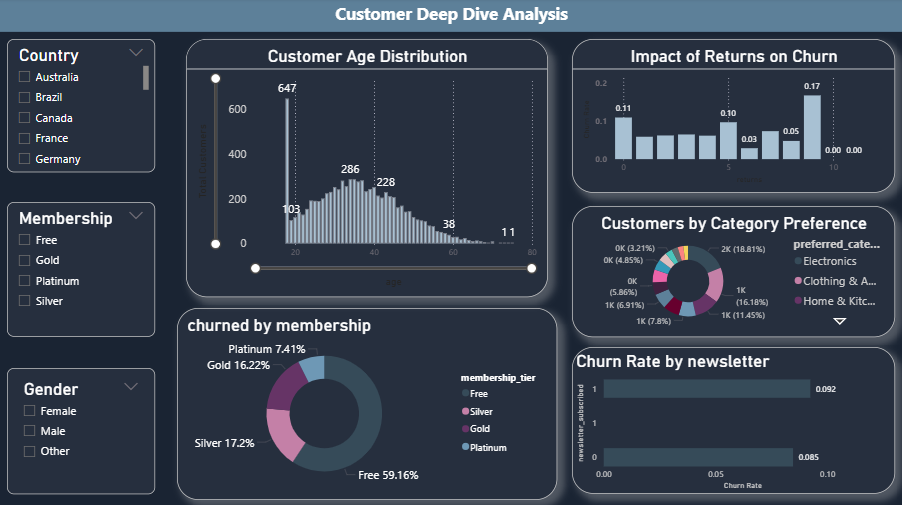

Layout of this report page (visuals, bound fields, positions):
{"tool":"powerbi","page":{"name":"Page 2","canvas":[1280,720],"ordinal":1},"visuals":[{"type":"textbox","box":[0,0,1279.8,48.2],"z":0},{"type":"slicer","fields":{"Values":["customers.membership_tier"]},"box":[9.9,289.1,209.8,191.3],"z":1000},{"type":"slicer","fields":{"Values":["customers.gender"]},"box":[9.9,524.4,209.8,178.6],"z":2000},{"type":"donutChart","title":"churned by membership","fields":{"Category":["customers.membership_tier"],"Y":["Sum(customers.churned)"]},"box":[250.9,439.4,538.6,272.1],"z":3000},{"type":"donutChart","title":"Customers by  Category Preference","fields":{"Category":["customers.preferred_category"],"Y":["customers.Total Customers"]},"box":[810.7,294.8,457.8,185.7],"z":4000},{"type":"clusteredColumnChart","title":"Customer Age Distribution","fields":{"Category":["customers.age"],"Y":["customers.Total Customers"]},"box":[263.6,58.1,513.1,365.7],"z":5000},{"type":"columnChart","title":"Impact of Returns on Churn","fields":{"Category":["customers.returns_made"],"Y":["customers.Churn Rate"]},"box":[810.7,58.1,457.8,218.3],"z":6000},{"type":"barChart","title":"Churn Rate by newsletter","fields":{"Category":["customers.newsletter_subscribed"],"Y":["customers.Churn Rate"]},"box":[810.7,494.6,457.8,208.3],"z":7000},{"type":"slicer","fields":{"Values":["customers.country"]},"box":[9.9,58.1,209.8,188.5],"z":8000}]}

Visuals, with their boxes in screenshot pixels (x1, y1, x2, y2), scaled from the page's 1280x720 canvas onto the 902x505 screenshot:
textbox: (0, 0, 901, 34)
slicer - customers.membership_tier: (7, 203, 155, 337)
slicer - customers.gender: (7, 368, 155, 493)
"churned by membership" donutChart: (177, 308, 556, 499)
"Customers by  Category Preference" donutChart: (571, 207, 894, 337)
"Customer Age Distribution" clusteredColumnChart: (186, 41, 547, 297)
"Impact of Returns on Churn" columnChart: (571, 41, 894, 194)
"Churn Rate by newsletter" barChart: (571, 347, 894, 493)
slicer - customers.country: (7, 41, 155, 173)
